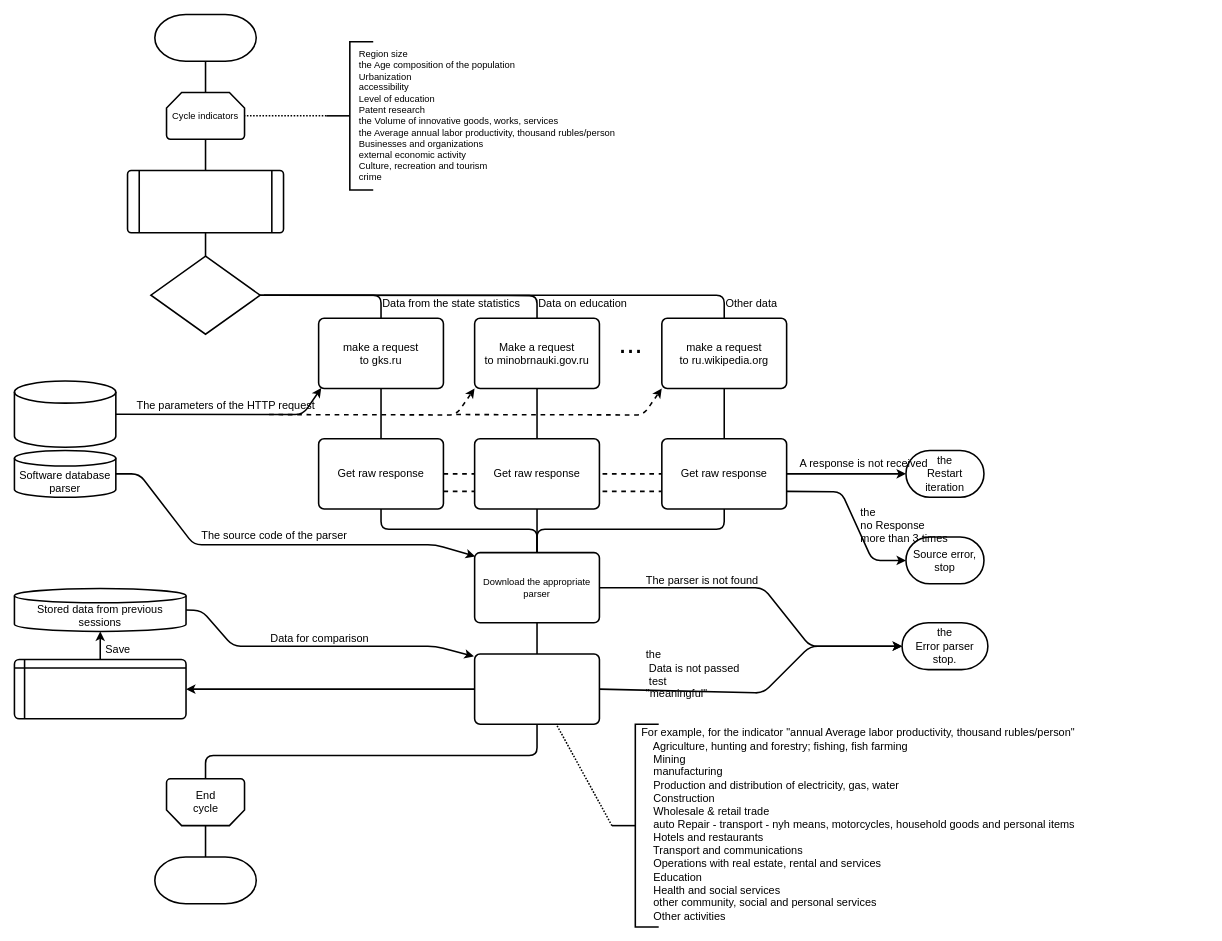
The diagram is 1222 pixels wide and 941 high, and some of its shapes have lost their labels. Each missing label, with the centre of its shape:
the based on type:: [205,295]
The rule base query: [64,414]
the Source data received: [205,880]
the Start receiving source data: [205,37]
the Structured data (a Python dictionary, mongo): [99,688]
the to Extract and organize meaningful data: [536,689]
The type definition data source: [205,201]
